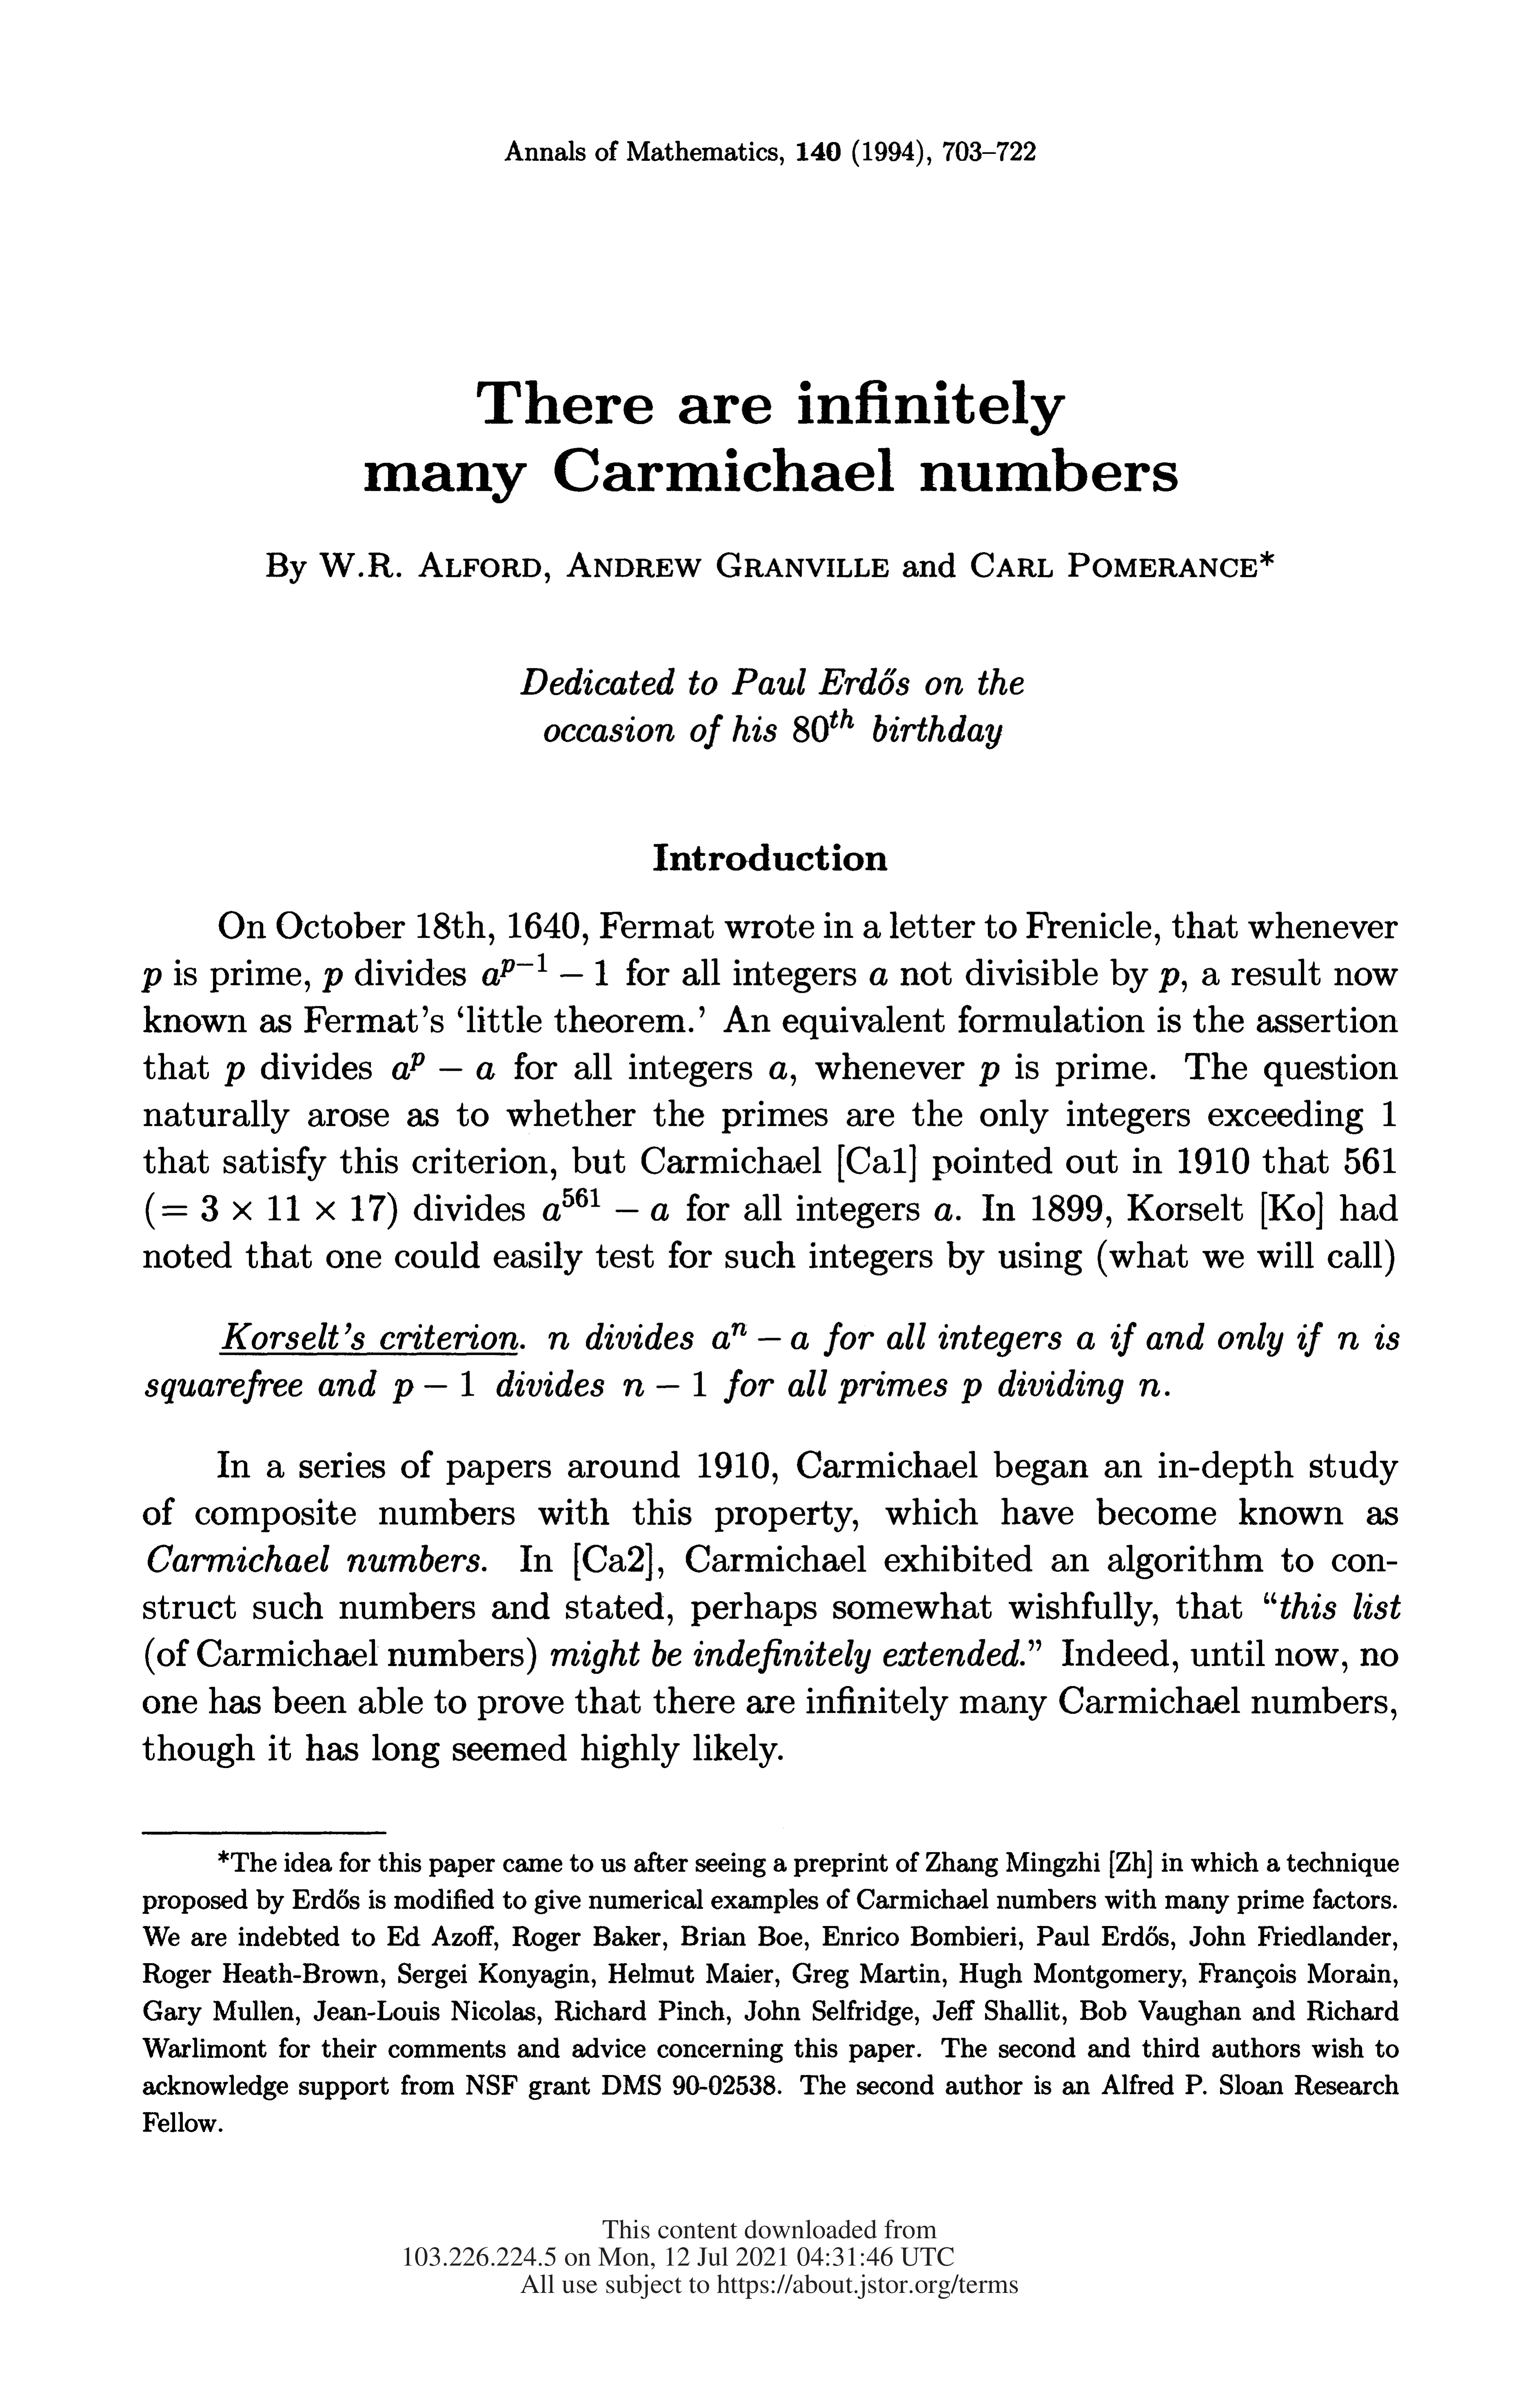maths: (146, 1192, 396, 1230), (542, 1188, 668, 1222), (482, 953, 607, 985), (393, 1371, 474, 1404), (393, 1053, 495, 1079), (712, 1323, 809, 1350), (623, 1371, 705, 1397), (1159, 967, 1187, 992), (768, 1062, 796, 1085), (140, 967, 161, 992), (979, 1062, 1000, 1086), (961, 1380, 982, 1404), (323, 967, 342, 992), (225, 1062, 244, 1086), (1338, 1332, 1359, 1350), (549, 1332, 568, 1350), (1140, 1380, 1159, 1397), (870, 967, 888, 985), (935, 1204, 952, 1222), (1077, 1332, 1094, 1350), (1259, 551, 1273, 565)
